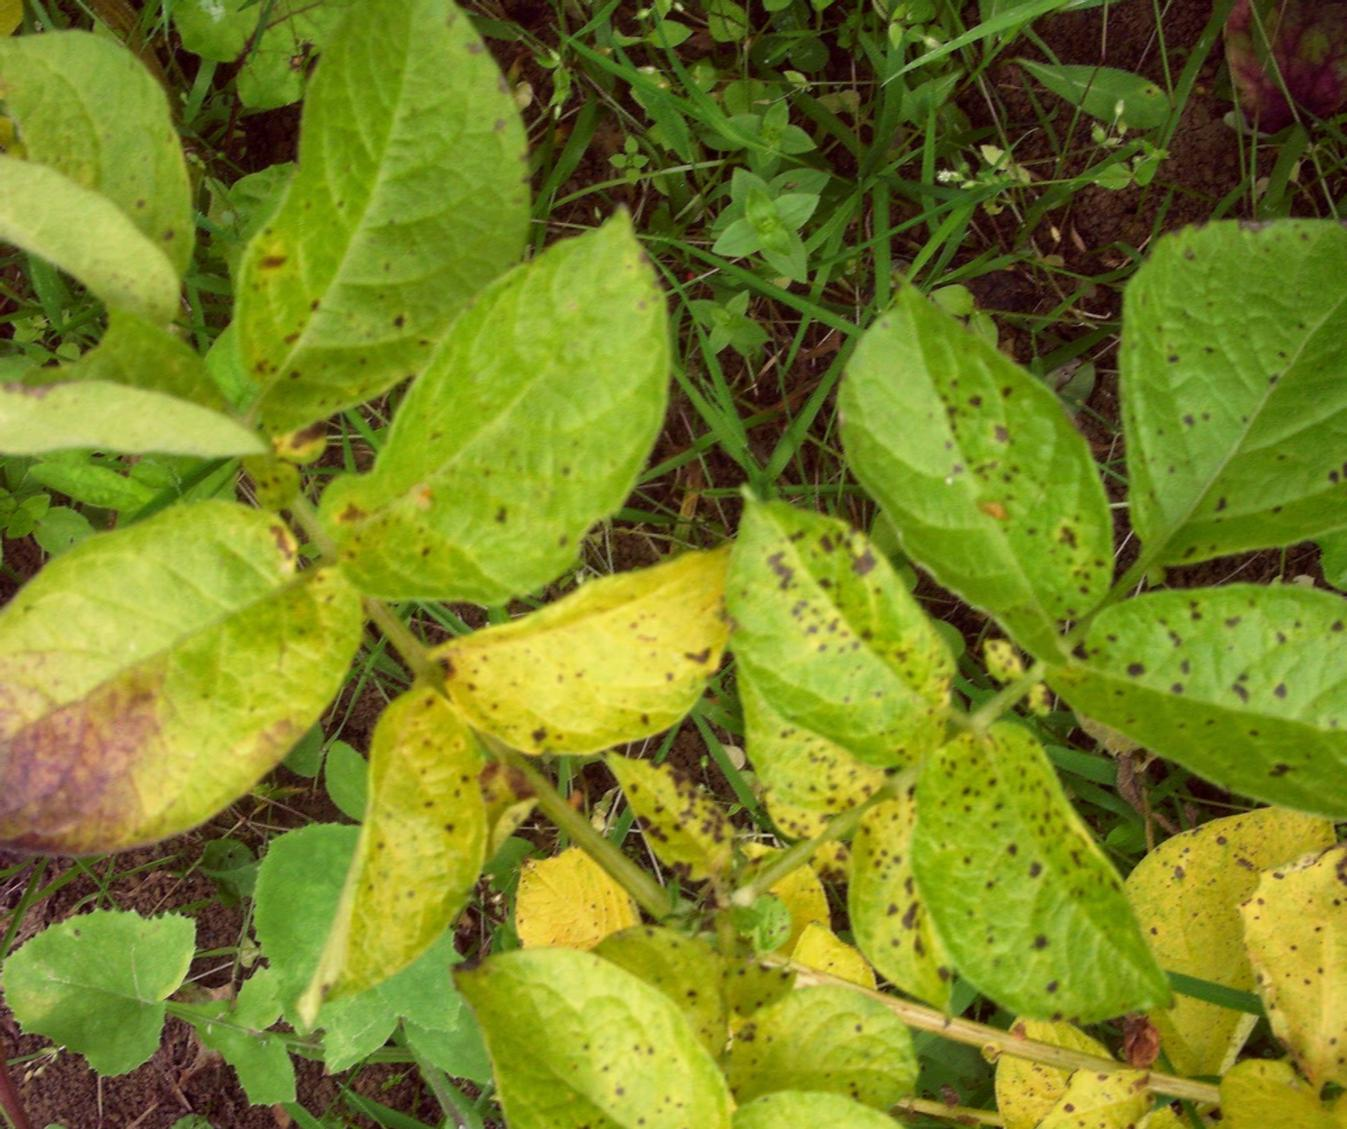Tomato Septoria leaf spot: (319, 189, 695, 610), (819, 277, 1102, 688), (896, 659, 1152, 1054), (1061, 575, 1347, 827), (735, 478, 958, 789), (308, 661, 496, 1009), (446, 549, 760, 756), (1233, 843, 1347, 1080), (593, 748, 761, 894)
